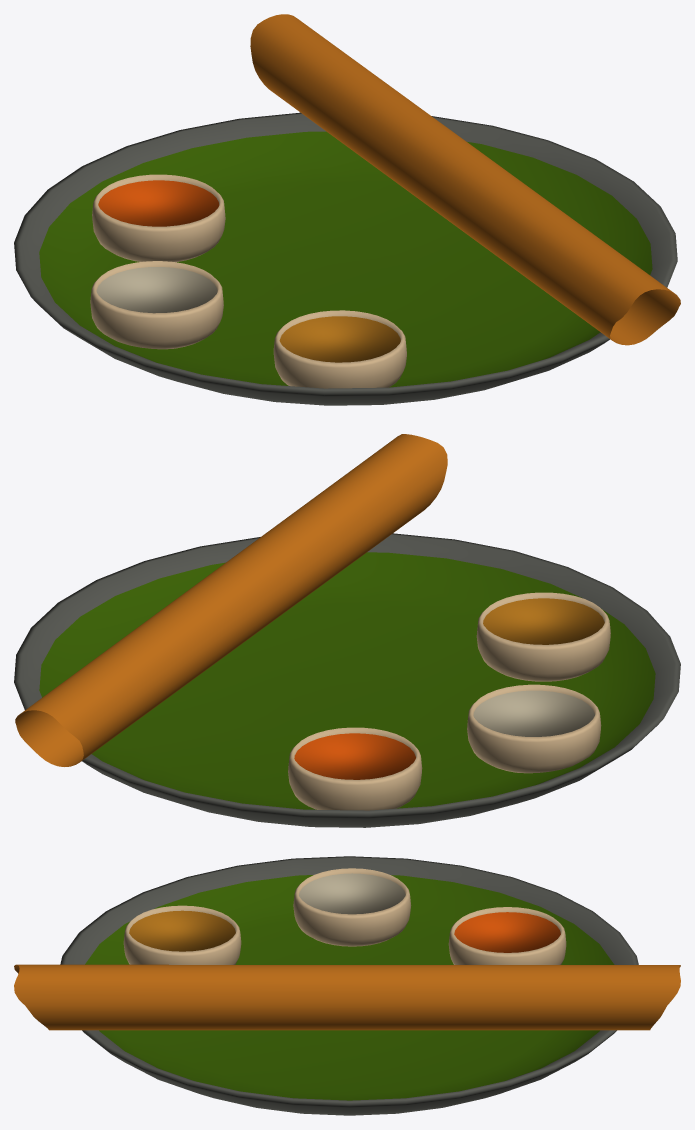
File: Dosa.fbx
3 views of the same model, one above another, from view 1: azimuth 30°, elevation 25°; view 2: azimuth 150°, elevation 25°; view 3: azimuth 270°, elevation 25° (orthographic). The views are drawn at different scales.
Parts seen in each view (by area): view 1: Sphere; view 2: Sphere; view 3: Sphere.
Part boxes in pixels (bbox=[...]): Sphere: bbox=[14, 14, 680, 405]; Sphere: bbox=[14, 434, 680, 827]; Sphere: bbox=[14, 856, 680, 1115].
Size of the model in its own units: 332 by 58.82 by 291.
